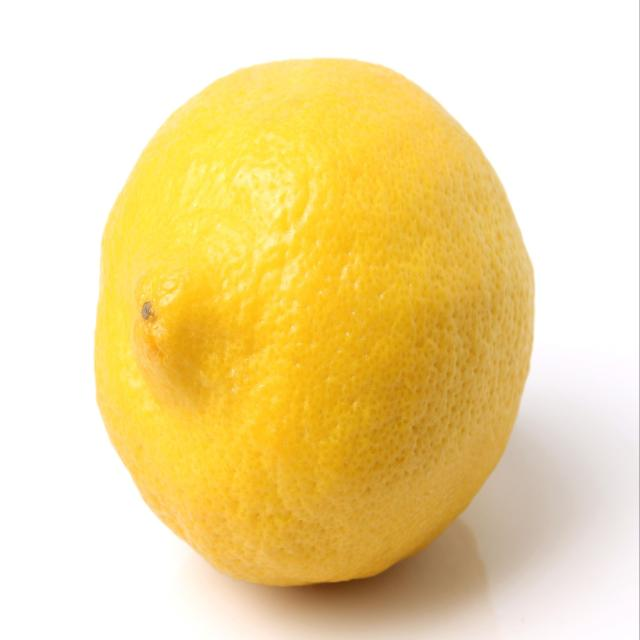lemon: (84, 55, 538, 590)
